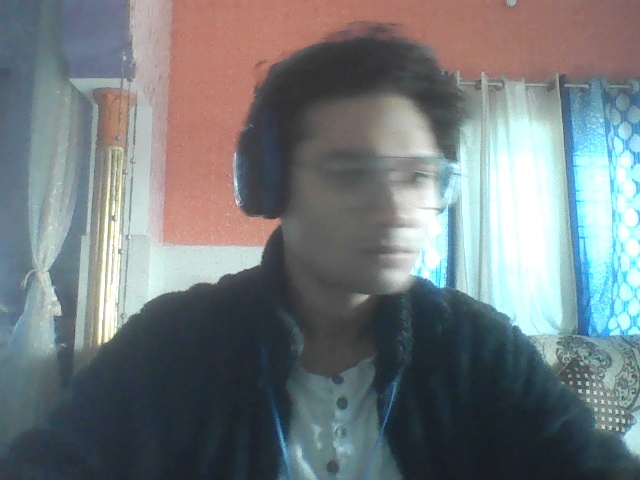real: (270, 44, 463, 317)
